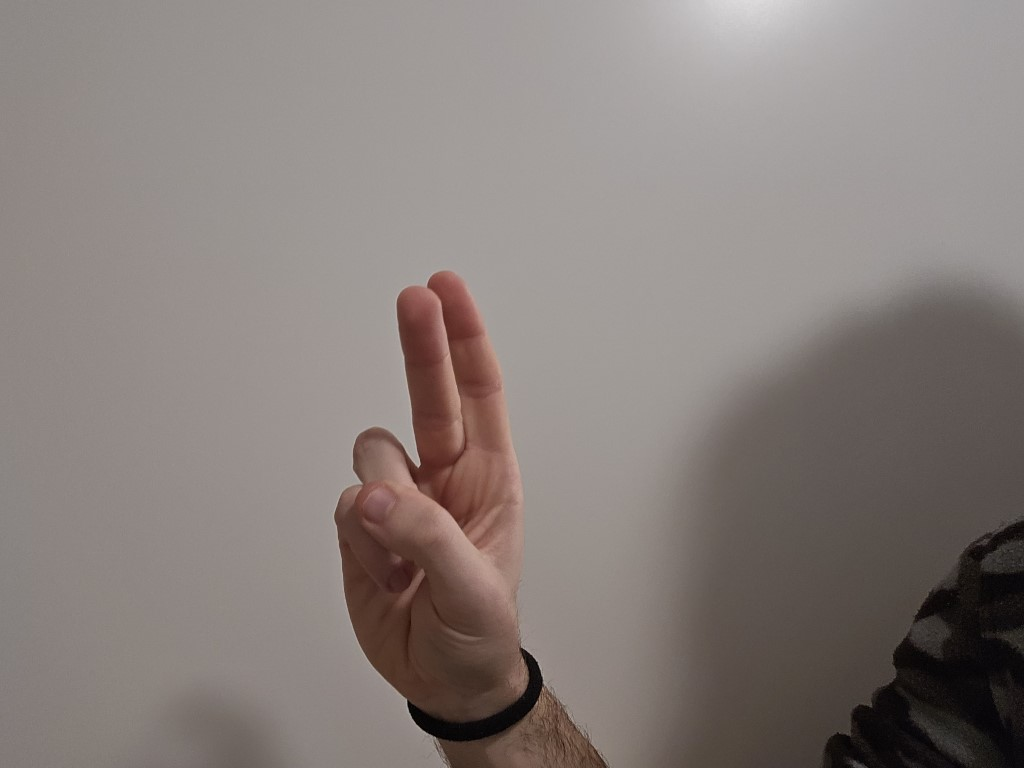r: (275, 261, 566, 677)
